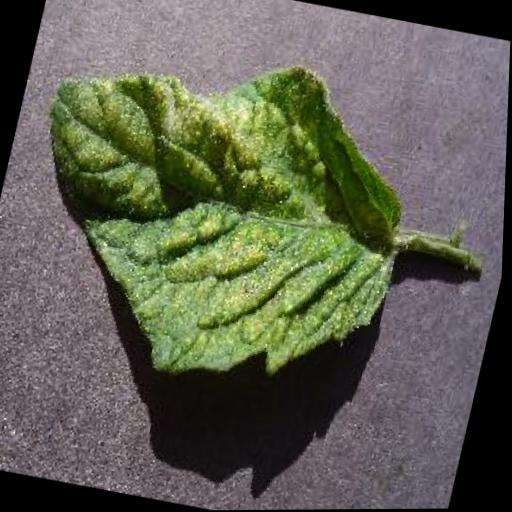Spider Mites: (0, 23, 437, 413)
